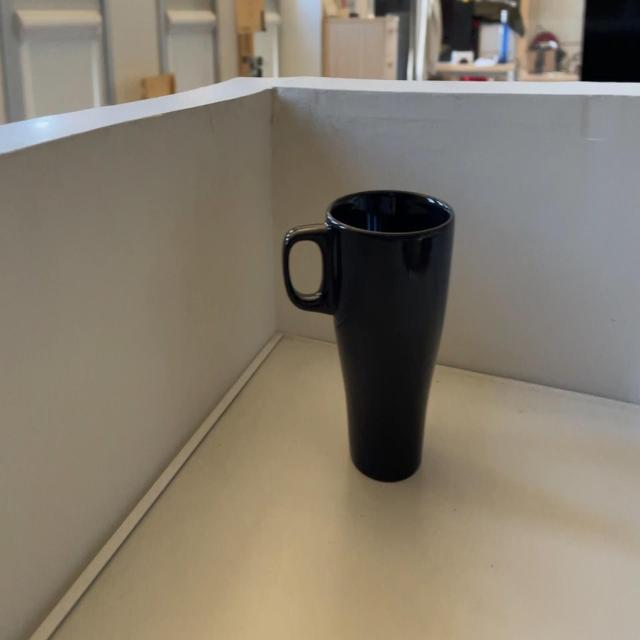cup: (283, 193, 455, 482)
